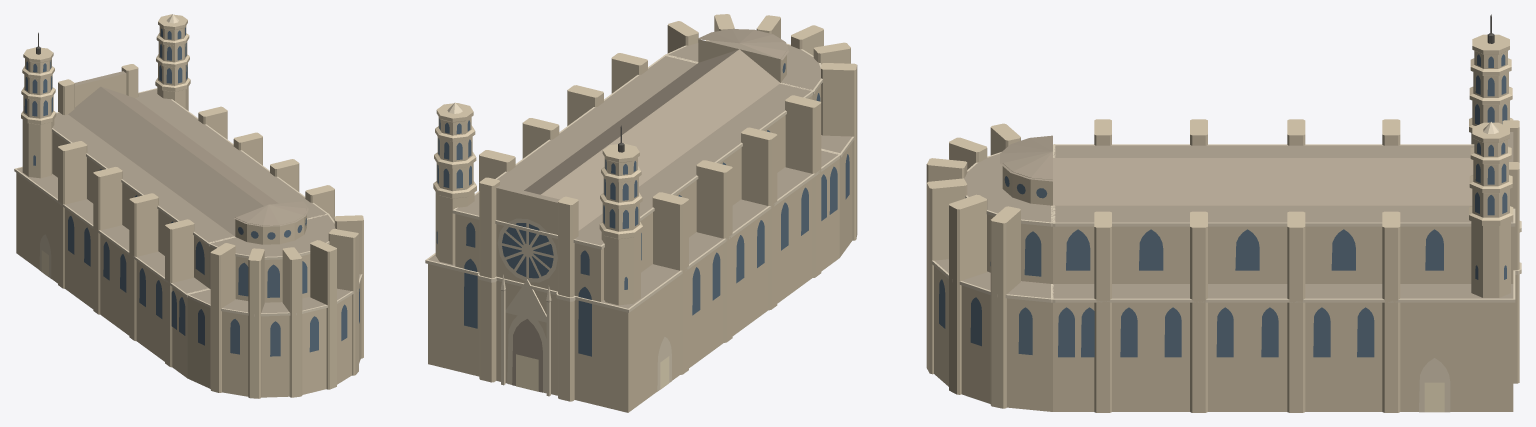
The model's file is barcelona-santa-maria-del-mar.glb.
3 views of the same model, side by side, from view 1: azimuth 30°, elevation 25°; view 2: azimuth 150°, elevation 25°; view 3: azimuth 270°, elevation 25° (orthographic). The views are drawn at different scales.
Parts seen in each view (by area): view 1: Santa Maria del Mar; view 2: Santa Maria del Mar; view 3: Santa Maria del Mar.
Boxes of the visible parts, x1,y1,x2,y2 form: Santa Maria del Mar: [14, 14, 363, 398]; Santa Maria del Mar: [425, 14, 857, 412]; Santa Maria del Mar: [926, 14, 1521, 412].
Bounding box in the file's own units: 35.95 × 46.4 × 83.2.
